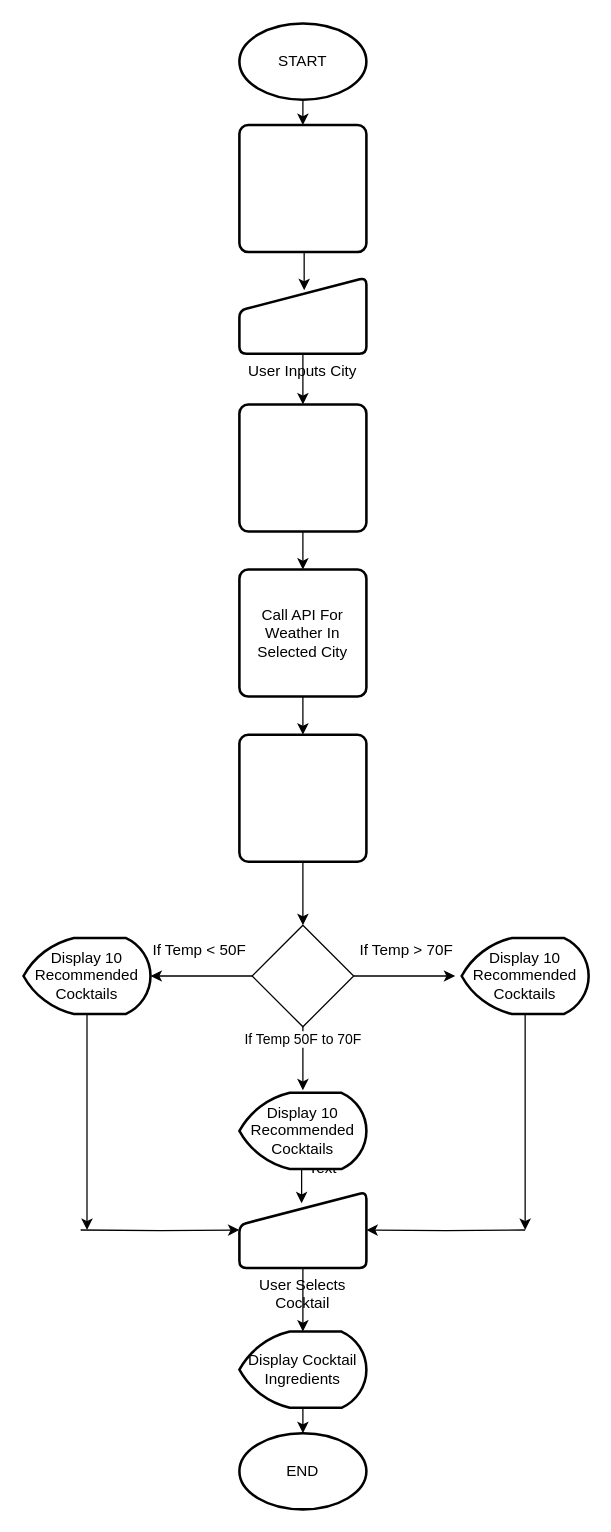
Some shapes in this 611 by 1532 pixel diagram are drawn without their labels. The centre of each missing label's shape, as x and y in pixels:
Call API for Cocktails: the point at 302,797
Cocktail Temperature Logic: the point at 302,975
Process Date/Time on City: the point at 302,467
Request City: the point at 302,188
